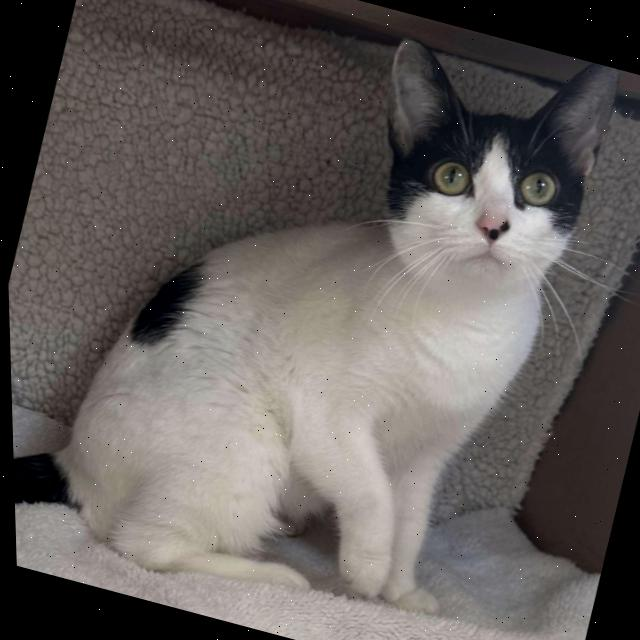American Bobtail: (0, 0, 638, 640)
